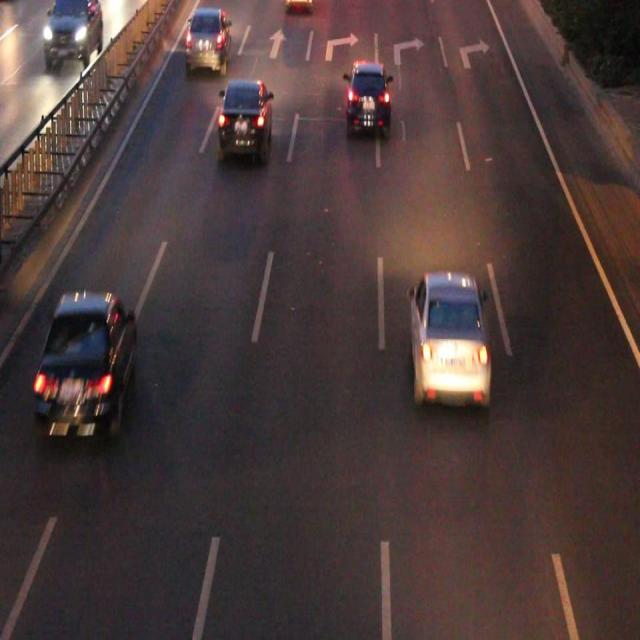car: (37, 294, 136, 434), (410, 275, 488, 403), (219, 82, 270, 153), (346, 62, 390, 132), (186, 9, 231, 69)
truck: (286, 1, 311, 11)
